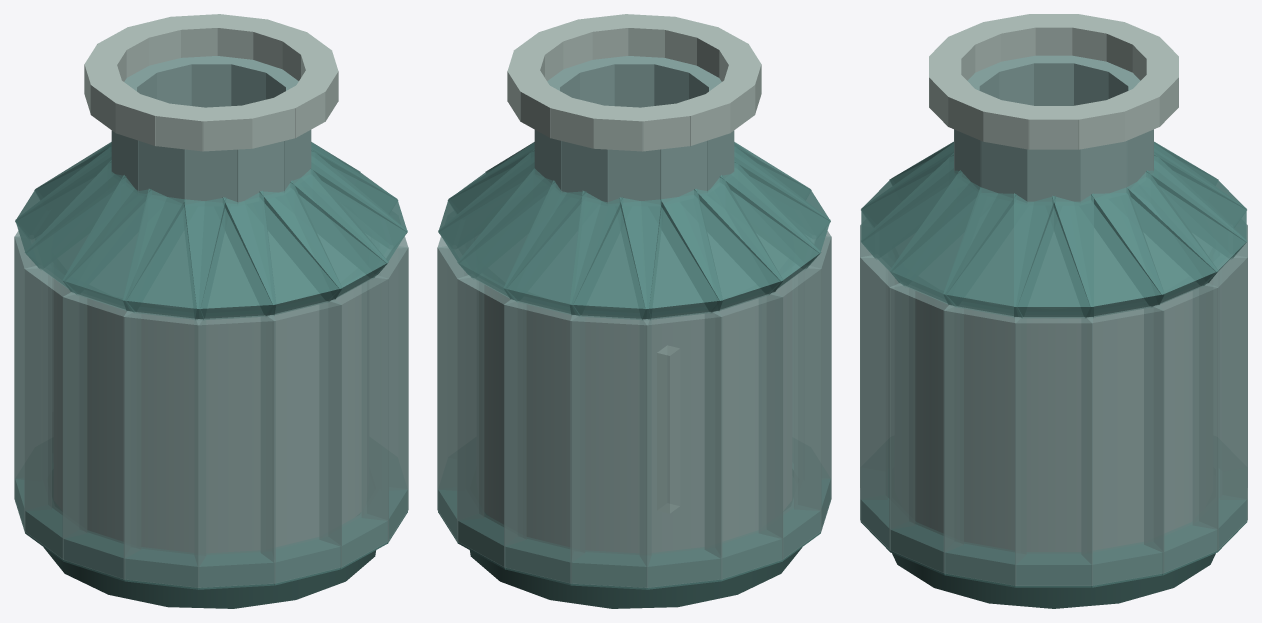
The model's file is CMU3DBottleFill5StudyCloud.glb.
3 views of the same model, side by side, from view 1: azimuth 30°, elevation 25°; view 2: azimuth 150°, elevation 25°; view 3: azimuth 270°, elevation 25° (orthographic).
Visible parts, largest first — view 1: static liquid volume level 5, hollow bottle wall 11, hollow bottle wall 12, hollow bottle wall 13, hollow bottle wall 10, hollow bottle wall 14, hollow bottle wall 09, hollow bottle wall 15, inward glass shoulder 11, inward glass shoulder 13, inward glass shoulder 12, hollow bottle wall 08 (+45 smaller); view 2: static liquid volume level 5, hollow bottle wall 07, hollow bottle wall 06, hollow bottle wall 05, hollow bottle wall 08, hollow bottle wall 04, hollow bottle wall 09, hollow bottle wall 03, inward glass shoulder 07, inward glass shoulder 05, inward glass shoulder 06, hollow bottle wall 10 (+46 smaller); view 3: static liquid volume level 5, hollow bottle wall 02, hollow bottle wall 16, hollow bottle wall 01, hollow bottle wall 03, hollow bottle wall 15, hollow bottle wall 04, hollow bottle wall 14, inward glass shoulder 02, inward glass shoulder 16, inward glass shoulder 01, inward glass shoulder 03 (+43 smaller).
Boxes of the visible parts, left/top/right/bottom form: static liquid volume level 5: left=54, top=279, right=360, bottom=552; hollow bottle wall 11: left=123, top=310, right=205, bottom=587; hollow bottle wall 12: left=194, top=314, right=275, bottom=587; hollow bottle wall 13: left=261, top=299, right=341, bottom=583; hollow bottle wall 10: left=62, top=292, right=140, bottom=579; hollow bottle wall 14: left=319, top=275, right=388, bottom=567; hollow bottle wall 09: left=24, top=265, right=86, bottom=559; hollow bottle wall 15: left=362, top=246, right=408, bottom=541; inward glass shoulder 11: left=123, top=188, right=226, bottom=320; inward glass shoulder 13: left=222, top=180, right=342, bottom=316; inward glass shoulder 12: left=184, top=190, right=276, bottom=320; hollow bottle wall 08: left=14, top=236, right=51, bottom=531; static liquid volume level 5: left=485, top=279, right=791, bottom=552; hollow bottle wall 07: left=640, top=310, right=722, bottom=587; hollow bottle wall 06: left=570, top=314, right=651, bottom=587; hollow bottle wall 05: left=504, top=299, right=584, bottom=583; hollow bottle wall 08: left=705, top=292, right=783, bottom=579; hollow bottle wall 04: left=457, top=275, right=526, bottom=567; hollow bottle wall 09: left=759, top=265, right=821, bottom=559; hollow bottle wall 03: left=437, top=246, right=483, bottom=541; inward glass shoulder 07: left=619, top=188, right=722, bottom=320; inward glass shoulder 05: left=503, top=180, right=623, bottom=316; inward glass shoulder 06: left=569, top=190, right=661, bottom=320; hollow bottle wall 10: left=794, top=236, right=831, bottom=531; static liquid volume level 5: left=895, top=279, right=1212, bottom=551; hollow bottle wall 02: left=1081, top=305, right=1164, bottom=585; hollow bottle wall 16: left=943, top=305, right=1026, bottom=585; hollow bottle wall 01: left=1015, top=315, right=1092, bottom=585; hollow bottle wall 03: left=1144, top=283, right=1218, bottom=573; hollow bottle wall 15: left=889, top=283, right=963, bottom=573; hollow bottle wall 04: left=1193, top=255, right=1247, bottom=550; hollow bottle wall 14: left=860, top=255, right=914, bottom=550; inward glass shoulder 02: left=1052, top=187, right=1164, bottom=318; inward glass shoulder 16: left=943, top=187, right=1055, bottom=318; inward glass shoulder 01: left=1014, top=193, right=1093, bottom=317; inward glass shoulder 03: left=1091, top=170, right=1218, bottom=307.
Size of the model in its own units: 0.3384 by 0.453 by 0.3384.
